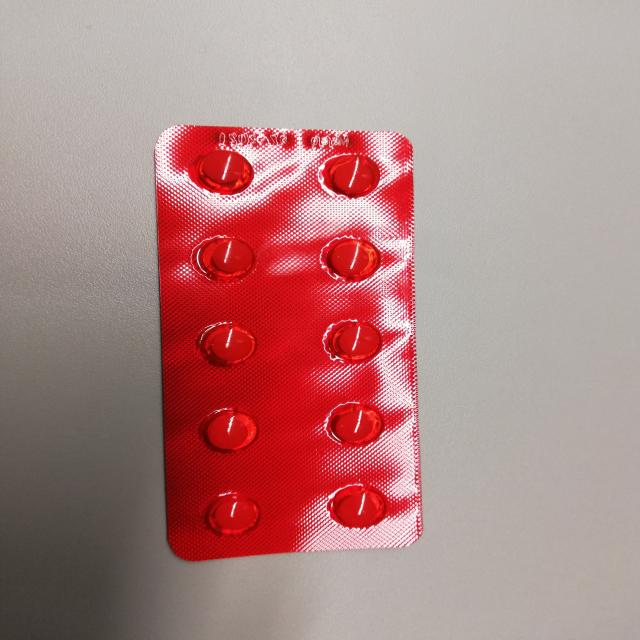Pill: (183, 394, 280, 457), (194, 482, 276, 549), (304, 150, 400, 207), (315, 481, 405, 540), (178, 311, 265, 370), (315, 392, 398, 451), (184, 232, 270, 286), (311, 227, 383, 290), (189, 143, 259, 203), (316, 316, 391, 370)
